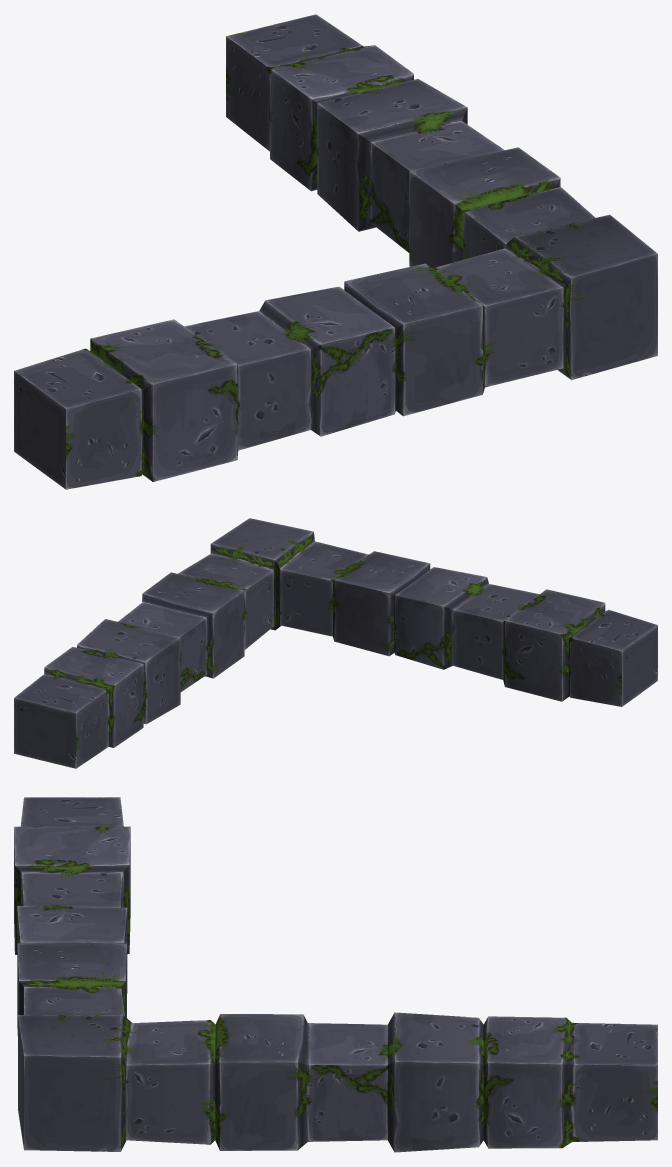
Rendered from MOD_WallCover_01_E_corner_convex.fbx.
The picture shows the model from 3 angles, top to bottom: view 1: azimuth 30°, elevation 25°; view 2: azimuth 150°, elevation 25°; view 3: azimuth 270°, elevation 25°; orthographic projection. The views are drawn at different scales.
Visible parts, largest first — view 1: MOD_WallCover_01_E_corner_convex; view 2: MOD_WallCover_01_E_corner_convex; view 3: MOD_WallCover_01_E_corner_convex.
Boxes of the visible parts, <box> form: MOD_WallCover_01_E_corner_convex: <box>14,14,657,489</box>; MOD_WallCover_01_E_corner_convex: <box>14,518,657,768</box>; MOD_WallCover_01_E_corner_convex: <box>14,797,657,1152</box>.
Size of what is drawn, in the model's own units: 467 by 75.76 by 467.
